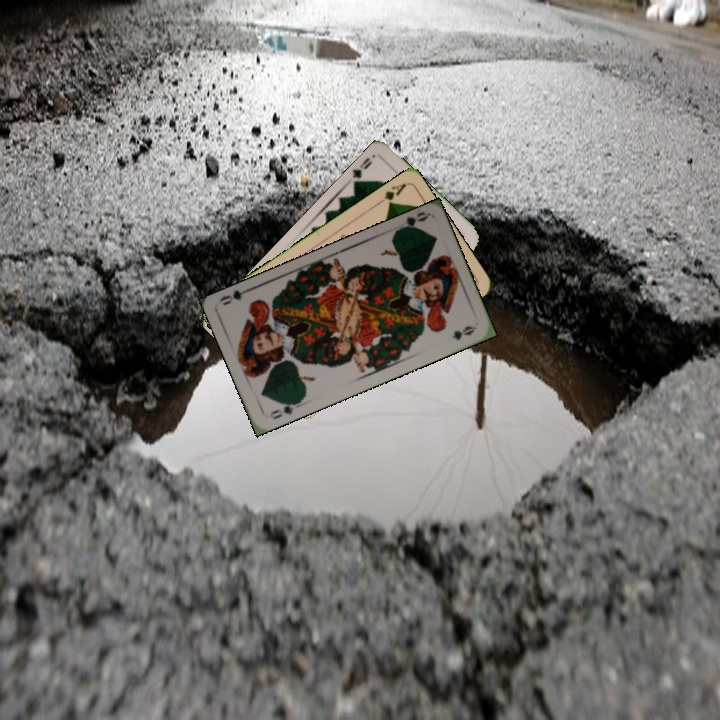G9: (348, 153, 375, 188)
GA: (372, 179, 408, 209)
GO: (391, 208, 430, 235), (266, 398, 303, 422)
